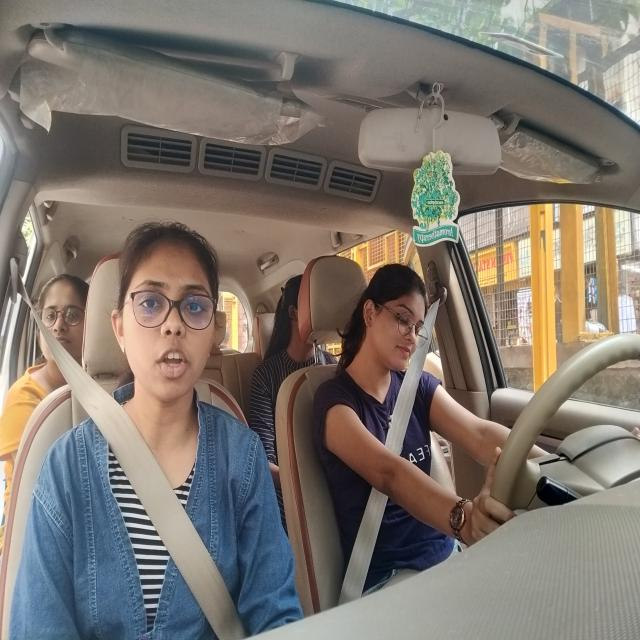drowsy: (363, 256, 430, 384)
person: (112, 216, 224, 409), (37, 272, 90, 372), (278, 270, 317, 361)
